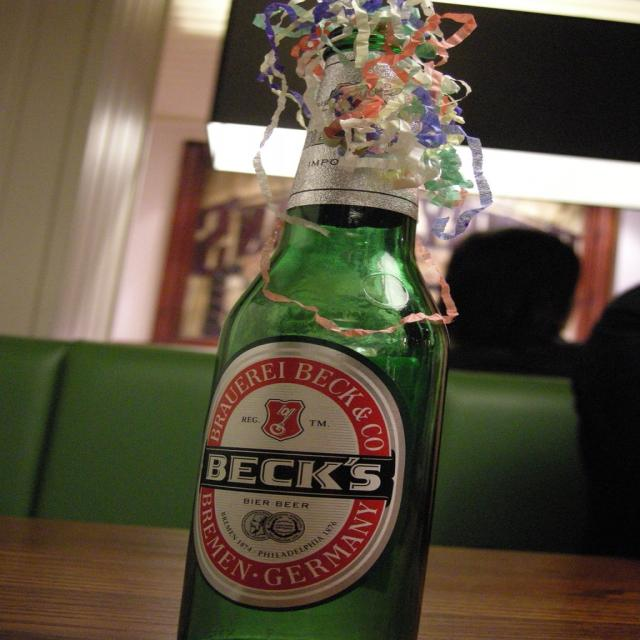becks: (194, 341, 409, 610)
